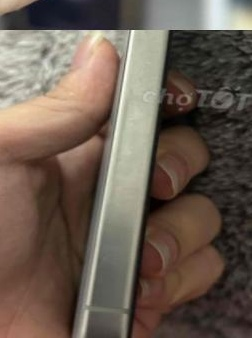scratch: (113, 67, 149, 202), (89, 237, 129, 270)
